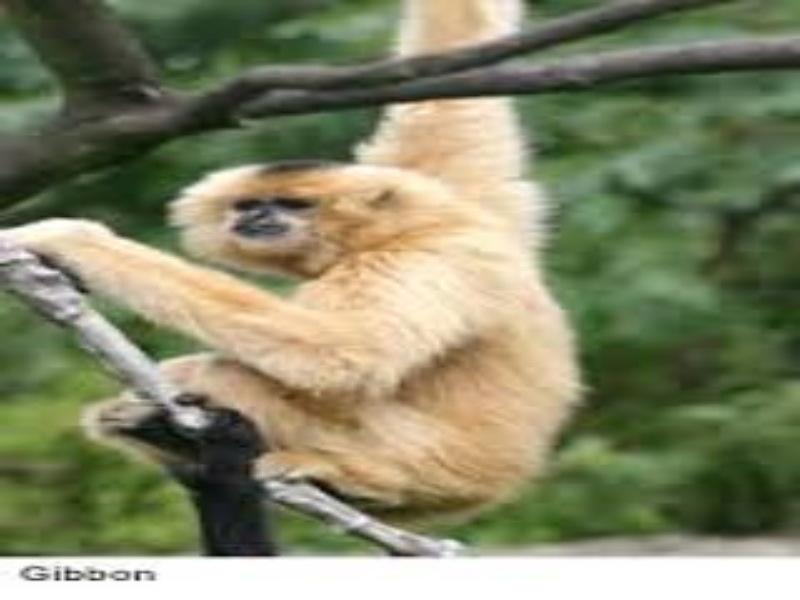monkey: (49, 74, 608, 528)
